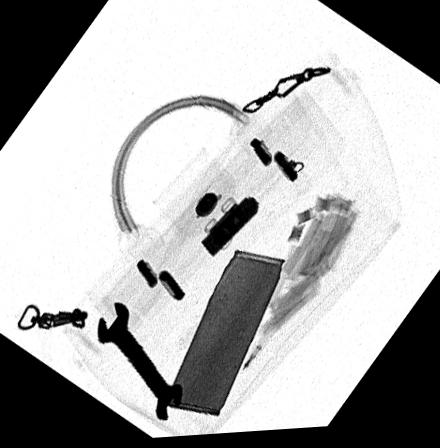Wrench: (93, 304, 183, 425)
